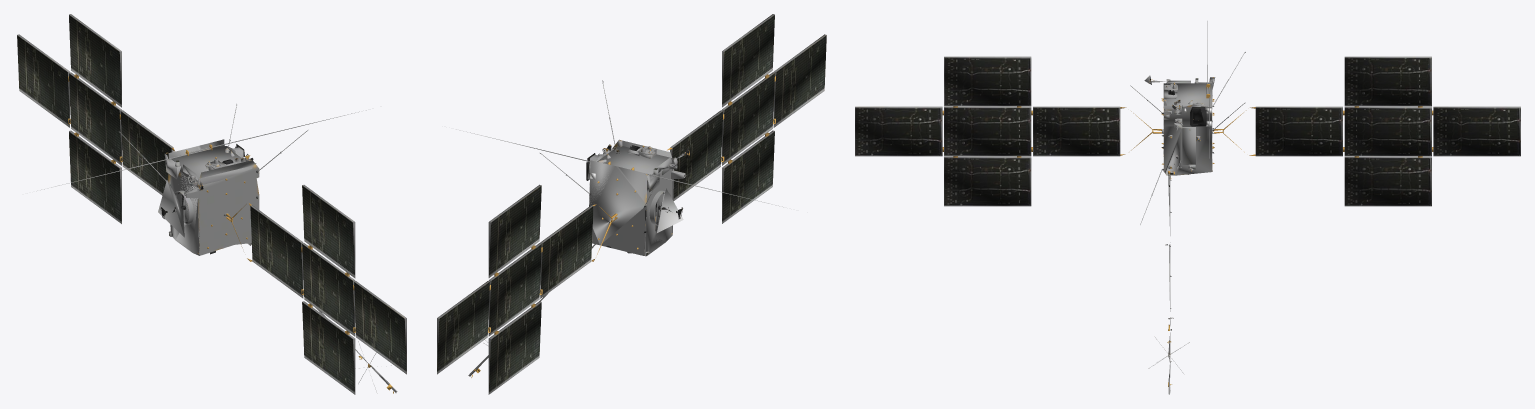
The model's file is juice-low.glb.
3 renders of one model, left to right at view 1: azimuth 30°, elevation 25°; view 2: azimuth 150°, elevation 25°; view 3: azimuth 270°, elevation 25°, orthographic. The views are drawn at different scales.
Visible parts, largest first — view 1: juice_uv; view 2: juice_uv; view 3: juice_uv.
Part boxes in pixels (x1,y1,x2,y2): juice_uv: (17, 14, 406, 394); juice_uv: (437, 14, 826, 394); juice_uv: (855, 21, 1520, 394).
Size of the model in its own units: 663 by 528 by 1199.
1 material, 1 textured.
